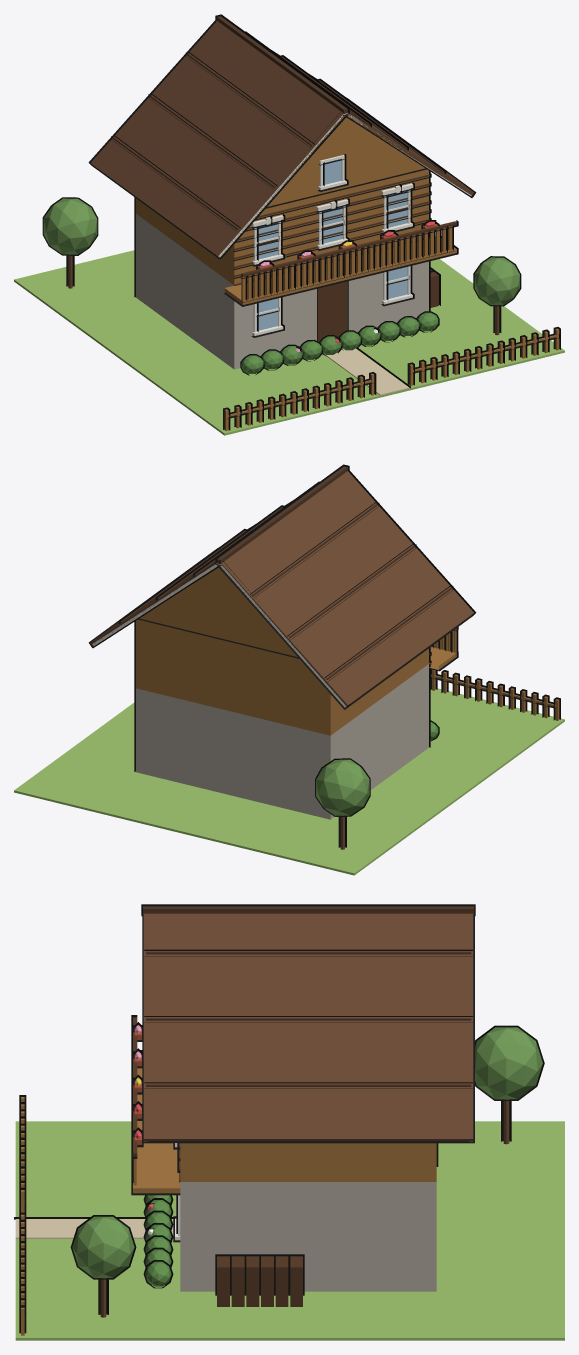
The model's file is Konut_sale_2.fbx.
The picture shows the model from 3 angles, top to bottom: view 1: azimuth 30°, elevation 25°; view 2: azimuth 150°, elevation 25°; view 3: azimuth 270°, elevation 25°; orthographic projection. The views are drawn at different scales.
Visible parts, largest first — view 1: Konut_sale_2; view 2: Konut_sale_2; view 3: Konut_sale_2.
Part boxes in pixels (x1,y1,x2,y2): Konut_sale_2: (14,14,564,435); Konut_sale_2: (14,464,564,875); Konut_sale_2: (14,904,564,1340).
Bounding box in the file's own units: 14 × 9.82 × 15.05.
